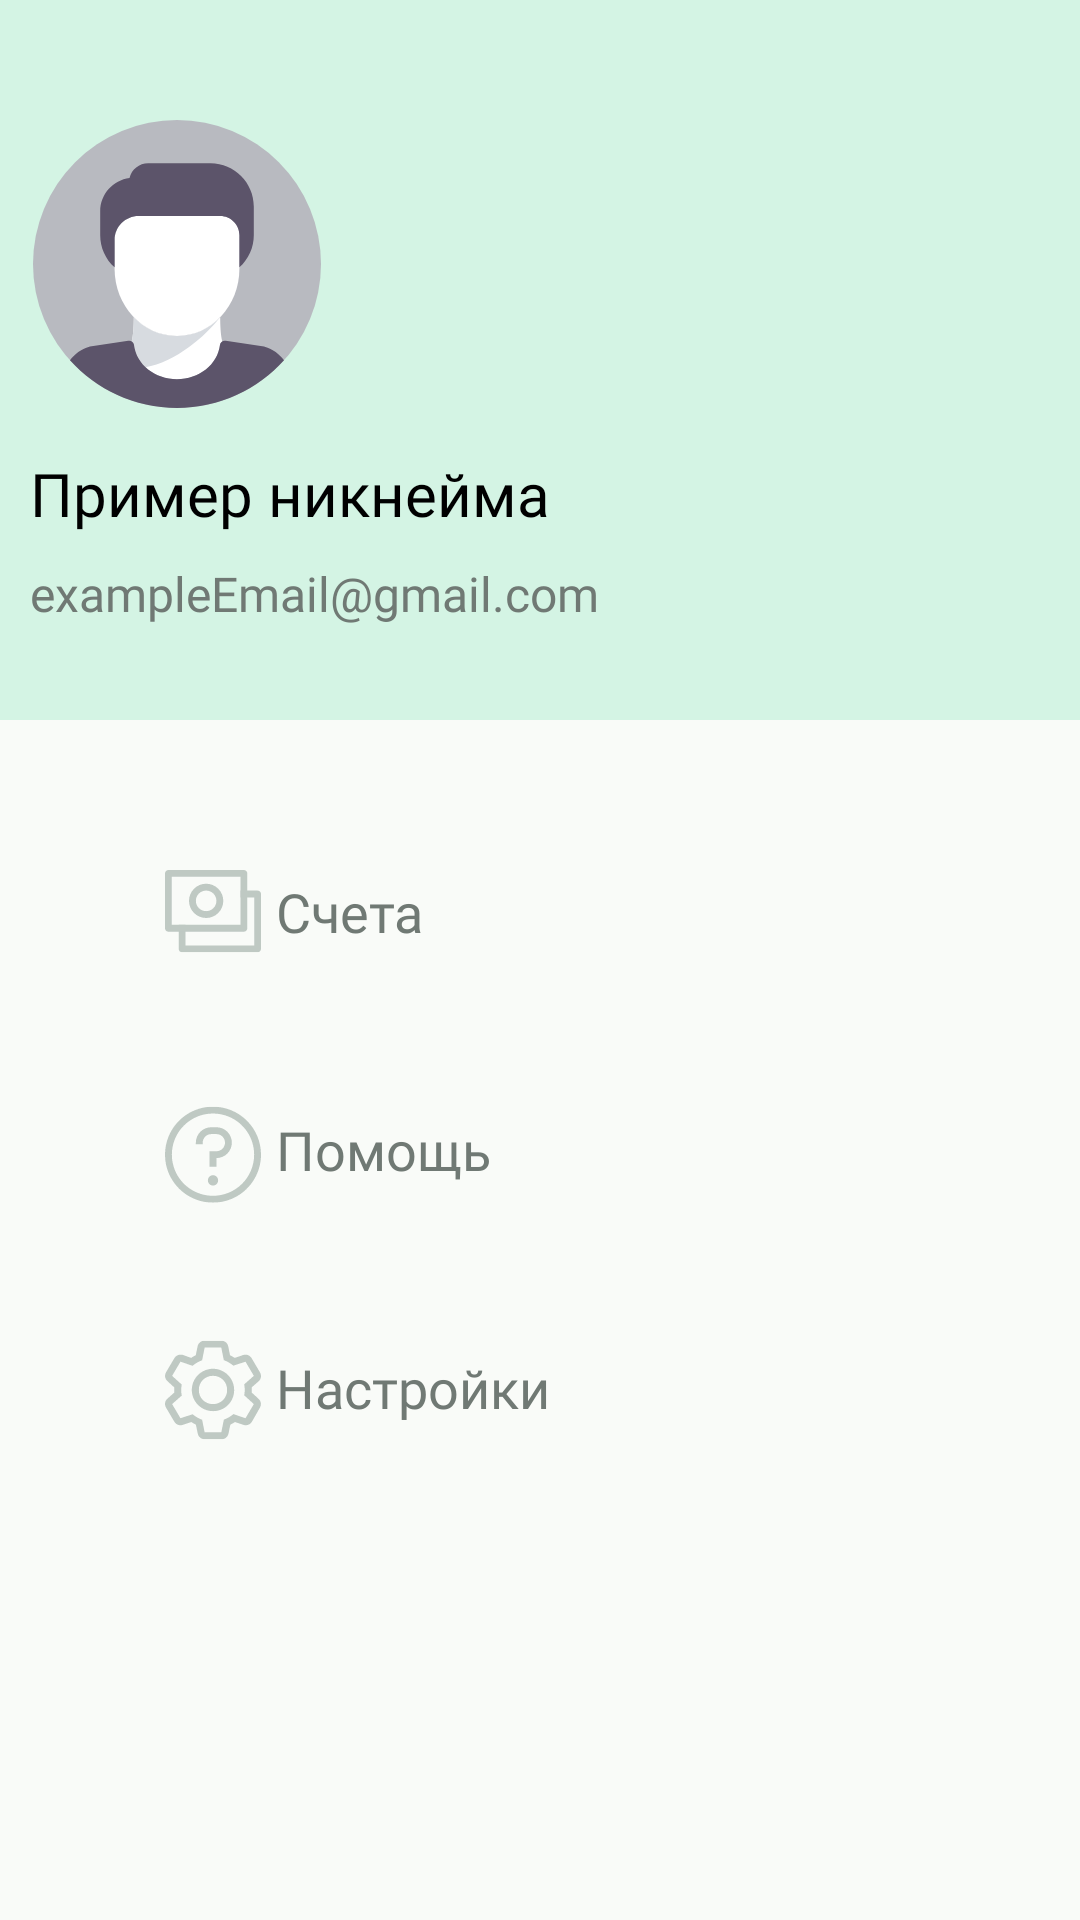

Icon click points for this 1080px×1920px phone screenshot, format point (x, y):
ajutor: point (213, 1155)
setari: point (213, 1390)
